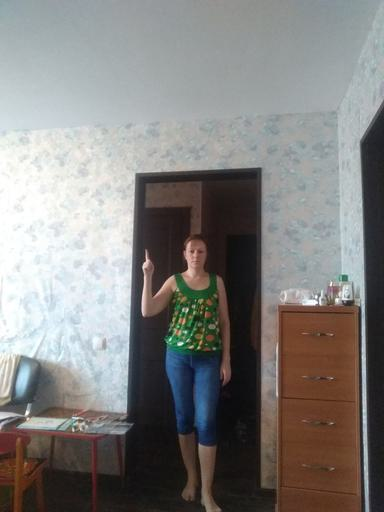one: (140, 248, 156, 279)
